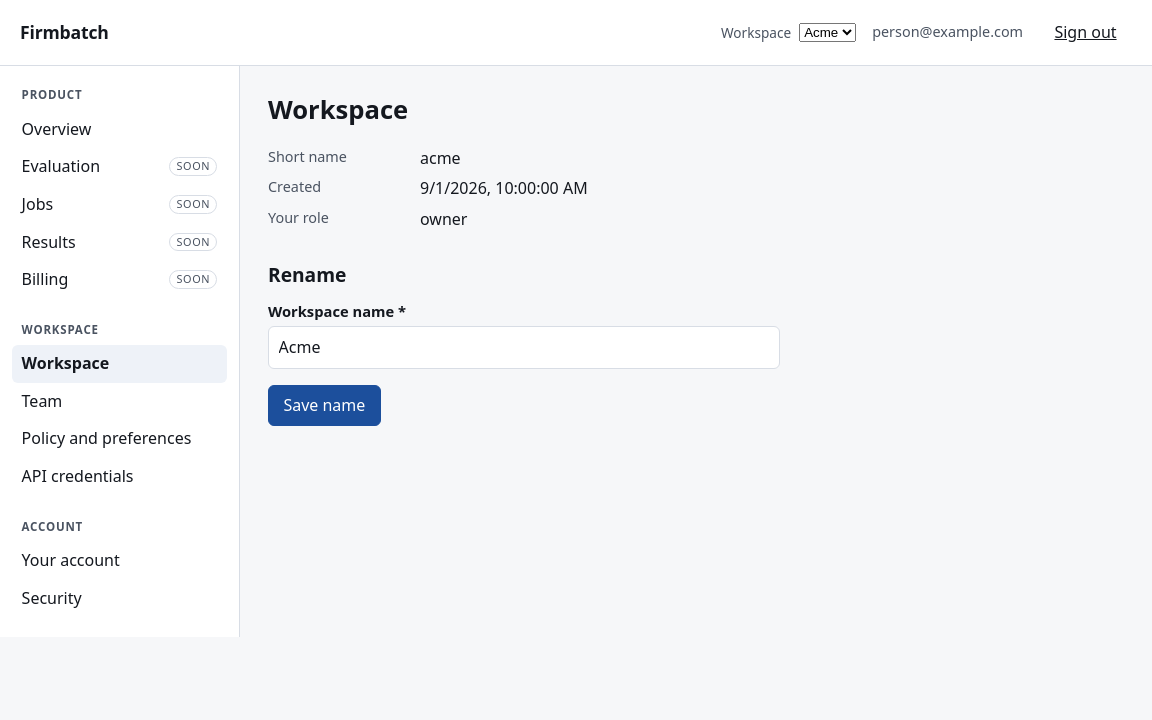
Test case: announcements › puts a confirmation in a status region, so it does not
Expected: the field labelled "Workspace name *" is shown, [268,326,780,369]
Click the button "Save name" at coordinates (324, 406), box [268,385,381,426]
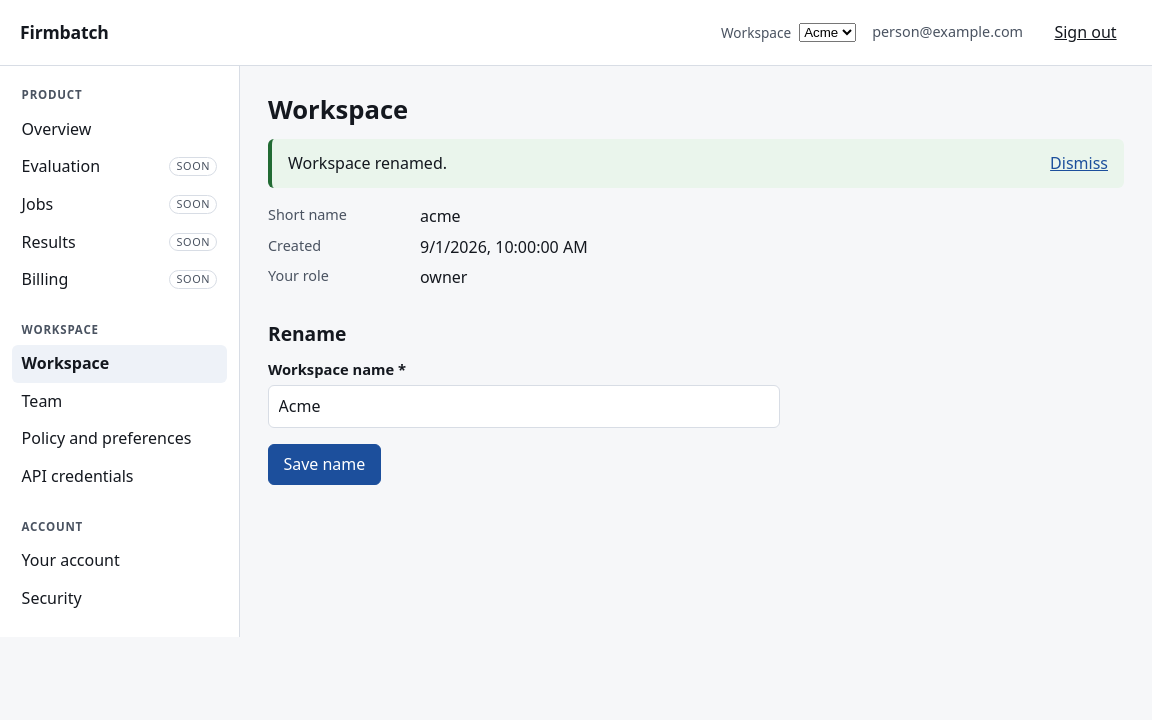
Now the text "Workspace renamed." is shown, box [288,151,447,176]
